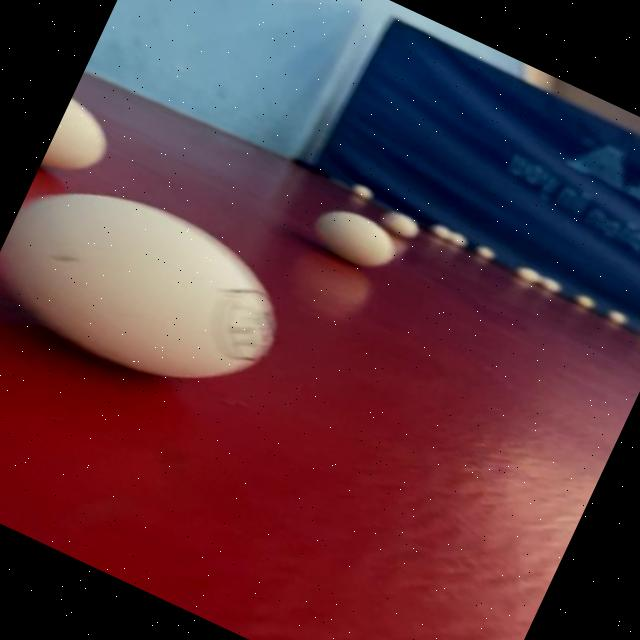ping-pong-ball: (298, 192, 410, 282), (39, 92, 129, 192)
